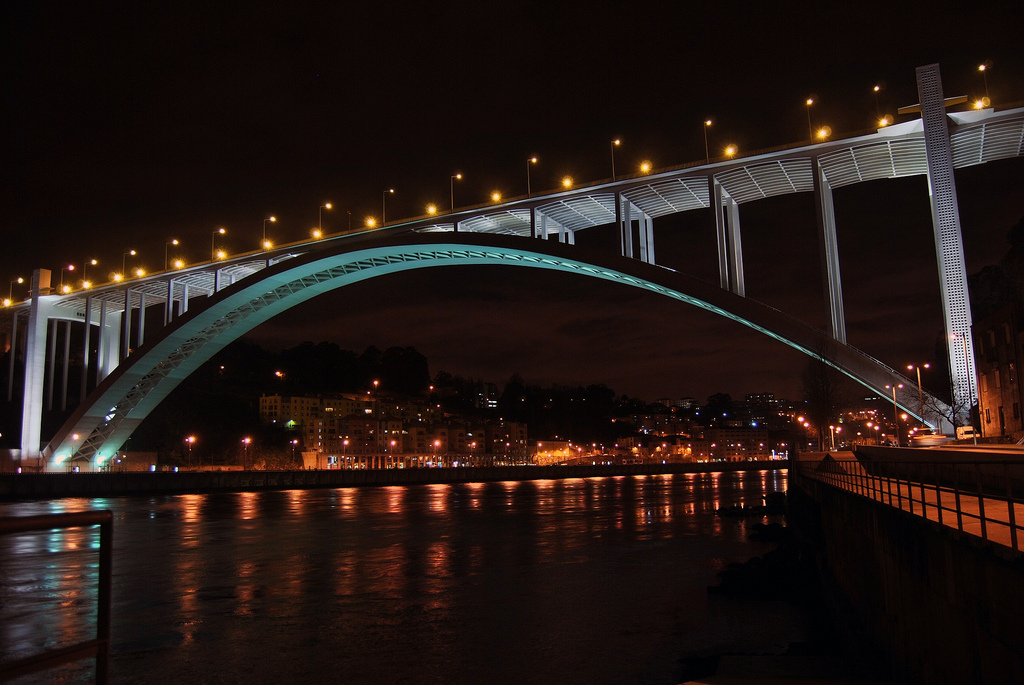arrabida: (0, 60, 1023, 471)
